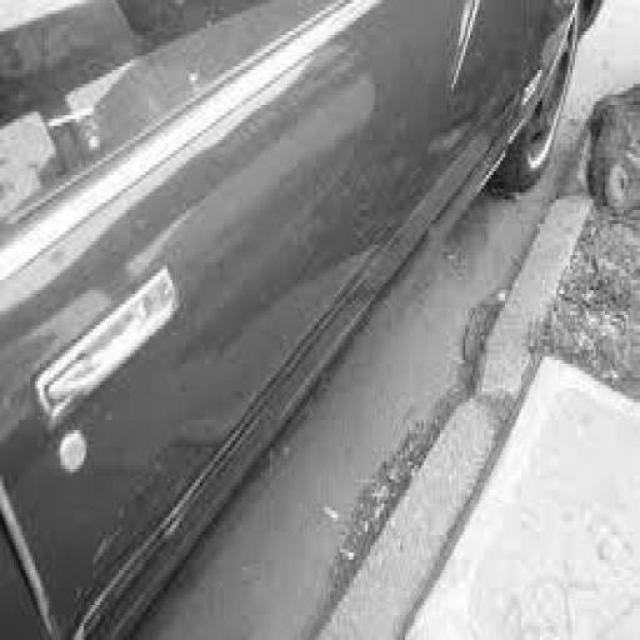dent: (78, 418, 245, 640)
scratch: (442, 1, 489, 91)
